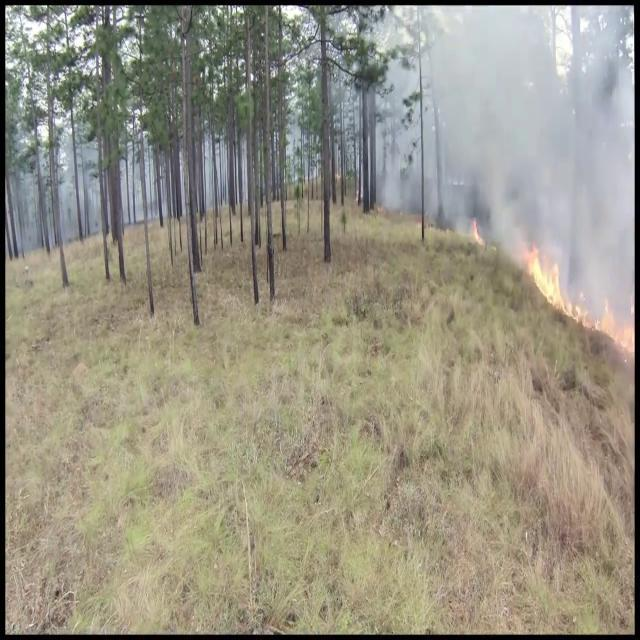Fire: (524, 238, 564, 312)
Smoke: (384, 5, 634, 260)
